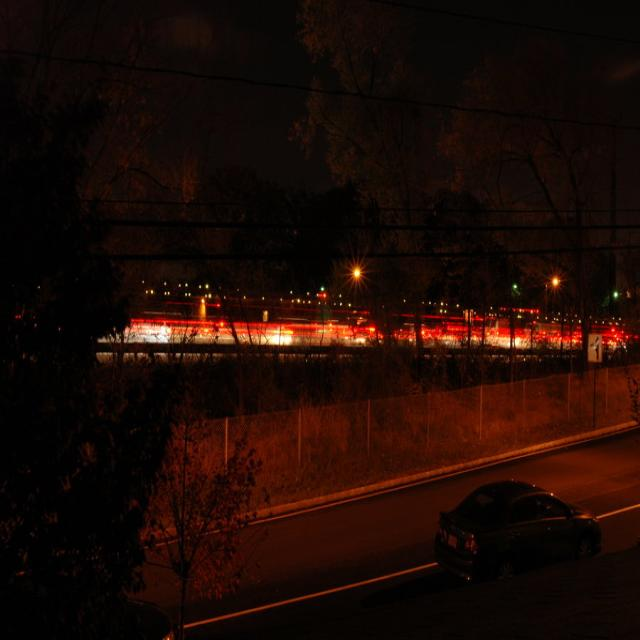Car: (434, 480, 600, 586)
